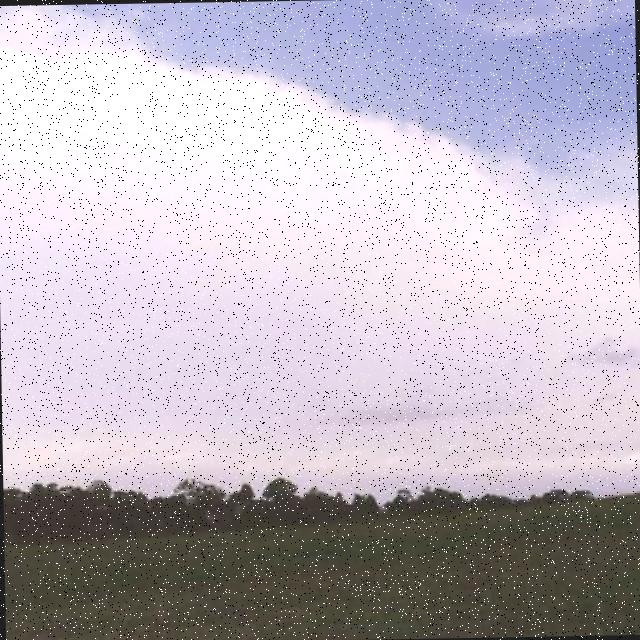St: (1, 1, 640, 458)
